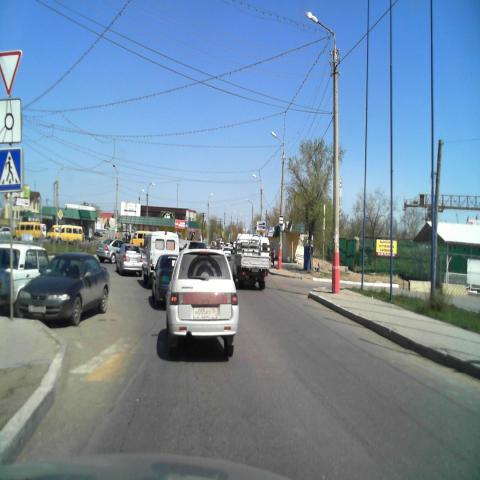8_13_1: (0, 97, 24, 144)
